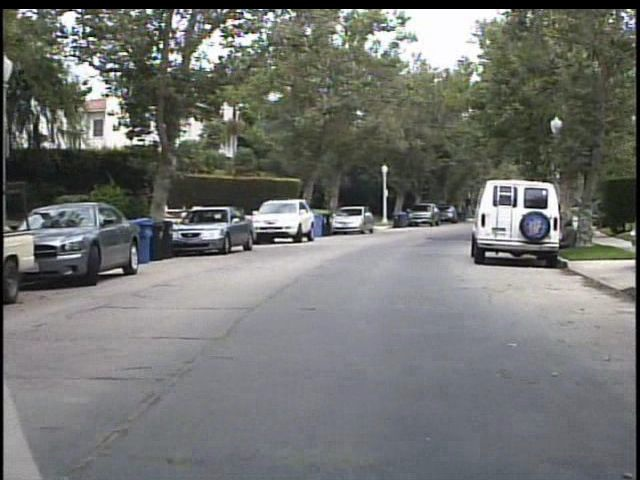person: (561, 219, 581, 252)
